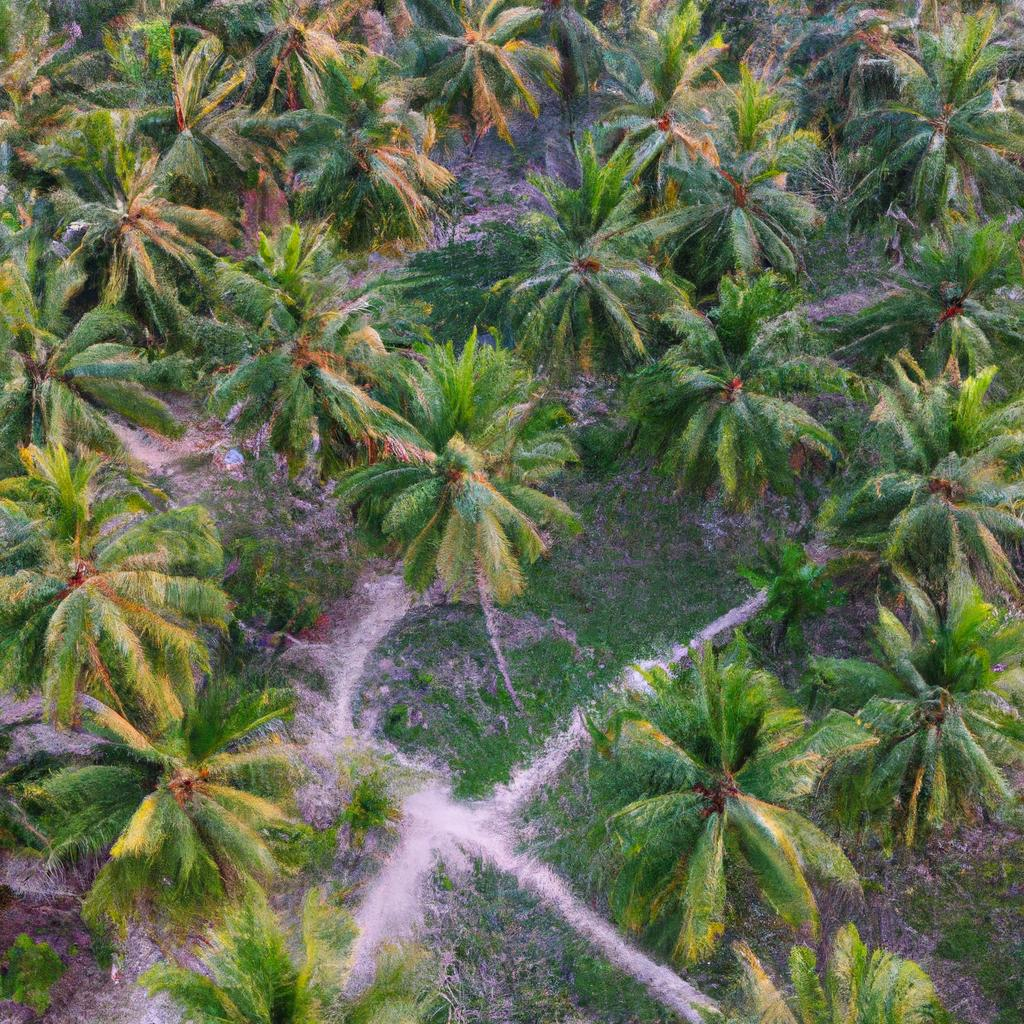coconut_tree: (591, 658, 854, 943), (18, 686, 318, 916), (345, 351, 602, 608), (0, 435, 232, 715), (483, 145, 735, 370), (810, 570, 1022, 826), (619, 288, 825, 499)
